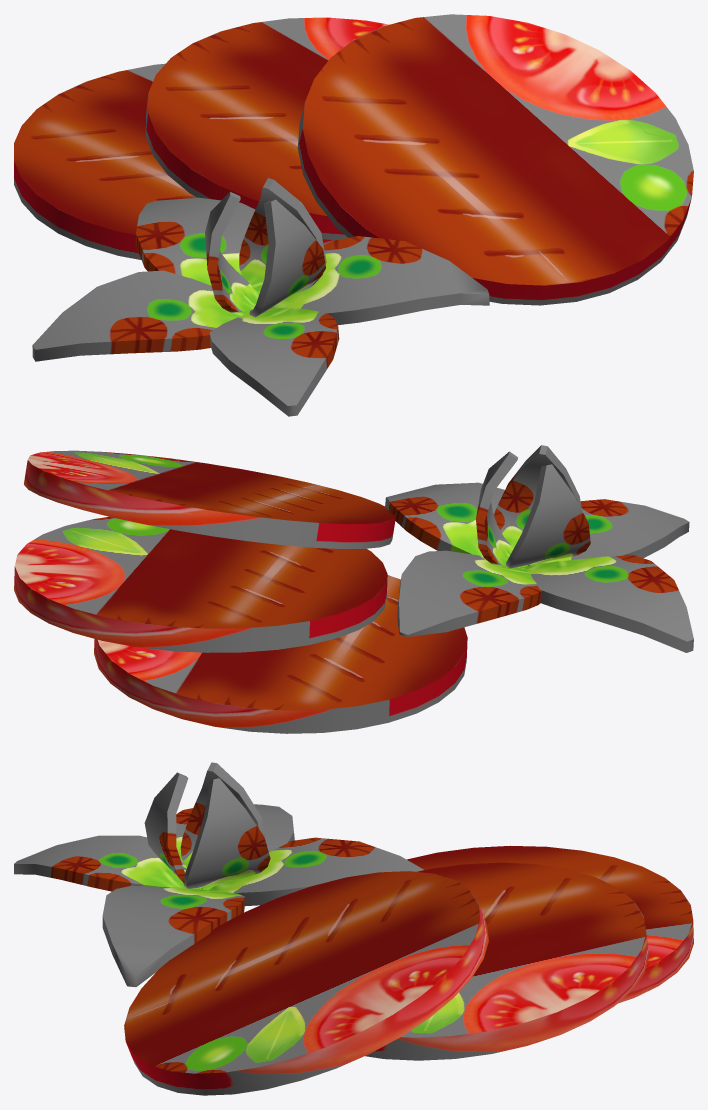
Rendered from 2_2_tomato dish.fbx.
The picture shows the model from 3 angles, top to bottom: view 1: azimuth 30°, elevation 25°; view 2: azimuth 150°, elevation 25°; view 3: azimuth 270°, elevation 25°; orthographic projection. The views are drawn at different scales.
Parts seen in each view (by area): view 1: tomato.084, tomato.083, tomato.082, Plane.146, Plane.147, Plane.148, Plane.145, Plane.151, Plane.150, Plane.149; view 2: tomato.083, tomato.082, tomato.084, Plane.146, Plane.145, Plane.147, Plane.150, Plane.148, Plane.151, Plane.149; view 3: tomato.084, tomato.083, tomato.082, Plane.147, Plane.145, Plane.148, Plane.149, Plane.151, Plane.150, Plane.146.
Boxes of the visible parts, left/top/right/bottom form: tomato.084: left=297, top=14, right=693, bottom=305; tomato.083: left=145, top=17, right=388, bottom=240; tomato.082: left=14, top=63, right=334, bottom=259; Plane.146: left=32, top=270, right=249, bottom=361; Plane.147: left=272, top=236, right=489, bottom=325; Plane.148: left=209, top=308, right=339, bottom=416; Plane.145: left=135, top=197, right=255, bottom=285; Plane.151: left=249, top=199, right=325, bottom=317; Plane.150: left=205, top=191, right=259, bottom=312; Plane.149: left=239, top=178, right=326, bottom=293; tomato.083: left=14, top=516, right=387, bottom=652; tomato.082: left=94, top=575, right=467, bottom=733; tomato.084: left=24, top=450, right=395, bottom=548; Plane.146: left=524, top=554, right=693, bottom=652; Plane.145: left=397, top=550, right=542, bottom=636; Plane.147: left=385, top=482, right=527, bottom=566; Plane.150: left=506, top=464, right=590, bottom=568; Plane.148: left=528, top=499, right=689, bottom=565; Plane.151: left=494, top=445, right=581, bottom=548; Plane.149: left=476, top=451, right=517, bottom=565; tomato.084: left=124, top=871, right=488, bottom=1095; tomato.083: left=365, top=862, right=649, bottom=1060; tomato.082: left=407, top=845, right=693, bottom=1003; Plane.147: left=102, top=885, right=244, bottom=987; Plane.145: left=209, top=837, right=423, bottom=906; Plane.148: left=14, top=835, right=203, bottom=891; Plane.149: left=183, top=778, right=270, bottom=888; Plane.151: left=144, top=772, right=196, bottom=886; Plane.150: left=180, top=762, right=266, bottom=867; Plane.146: left=176, top=804, right=294, bottom=890.
Bounding box in the file's own units: 4.39 × 0.9841 × 4.11.
